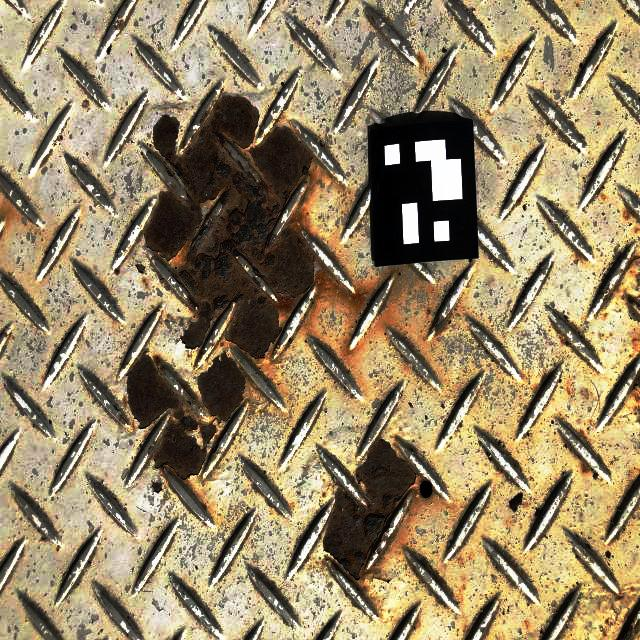Corrosion: (124, 86, 347, 490), (322, 437, 419, 588), (594, 255, 640, 318), (601, 585, 640, 640), (627, 366, 640, 410), (433, 310, 452, 336), (418, 478, 435, 501), (112, 14, 127, 35), (626, 294, 640, 316), (366, 13, 382, 30), (581, 456, 594, 473), (370, 574, 392, 584), (560, 331, 573, 346), (117, 413, 130, 426), (151, 481, 163, 495), (134, 263, 146, 274), (416, 54, 424, 69), (623, 209, 630, 220), (577, 430, 584, 439), (112, 404, 120, 411), (56, 545, 61, 552), (114, 269, 120, 274), (427, 494, 431, 497)
